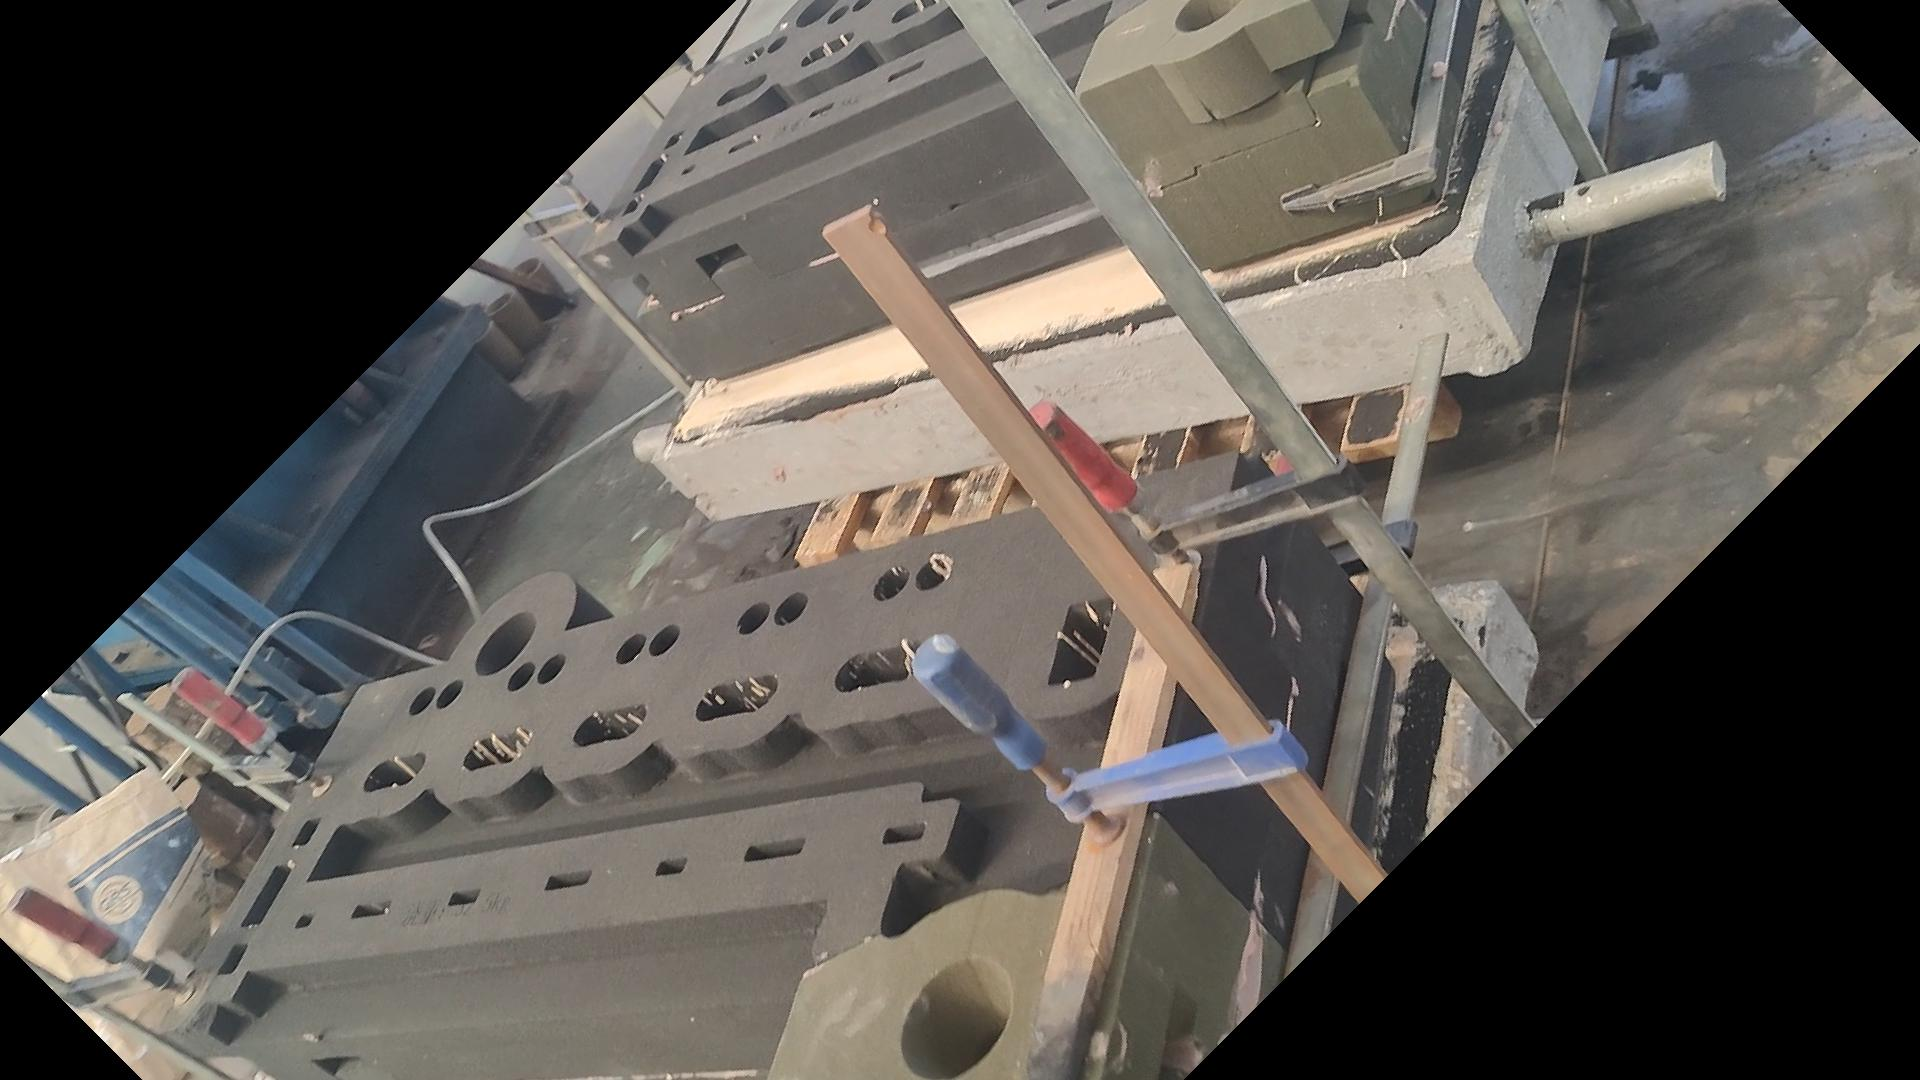pouring hole: (901, 956, 1013, 1080), (473, 611, 537, 675), (1172, 1, 1241, 30), (793, 1, 840, 26), (508, 256, 541, 280), (462, 319, 495, 342), (483, 291, 516, 314), (459, 302, 483, 322)
